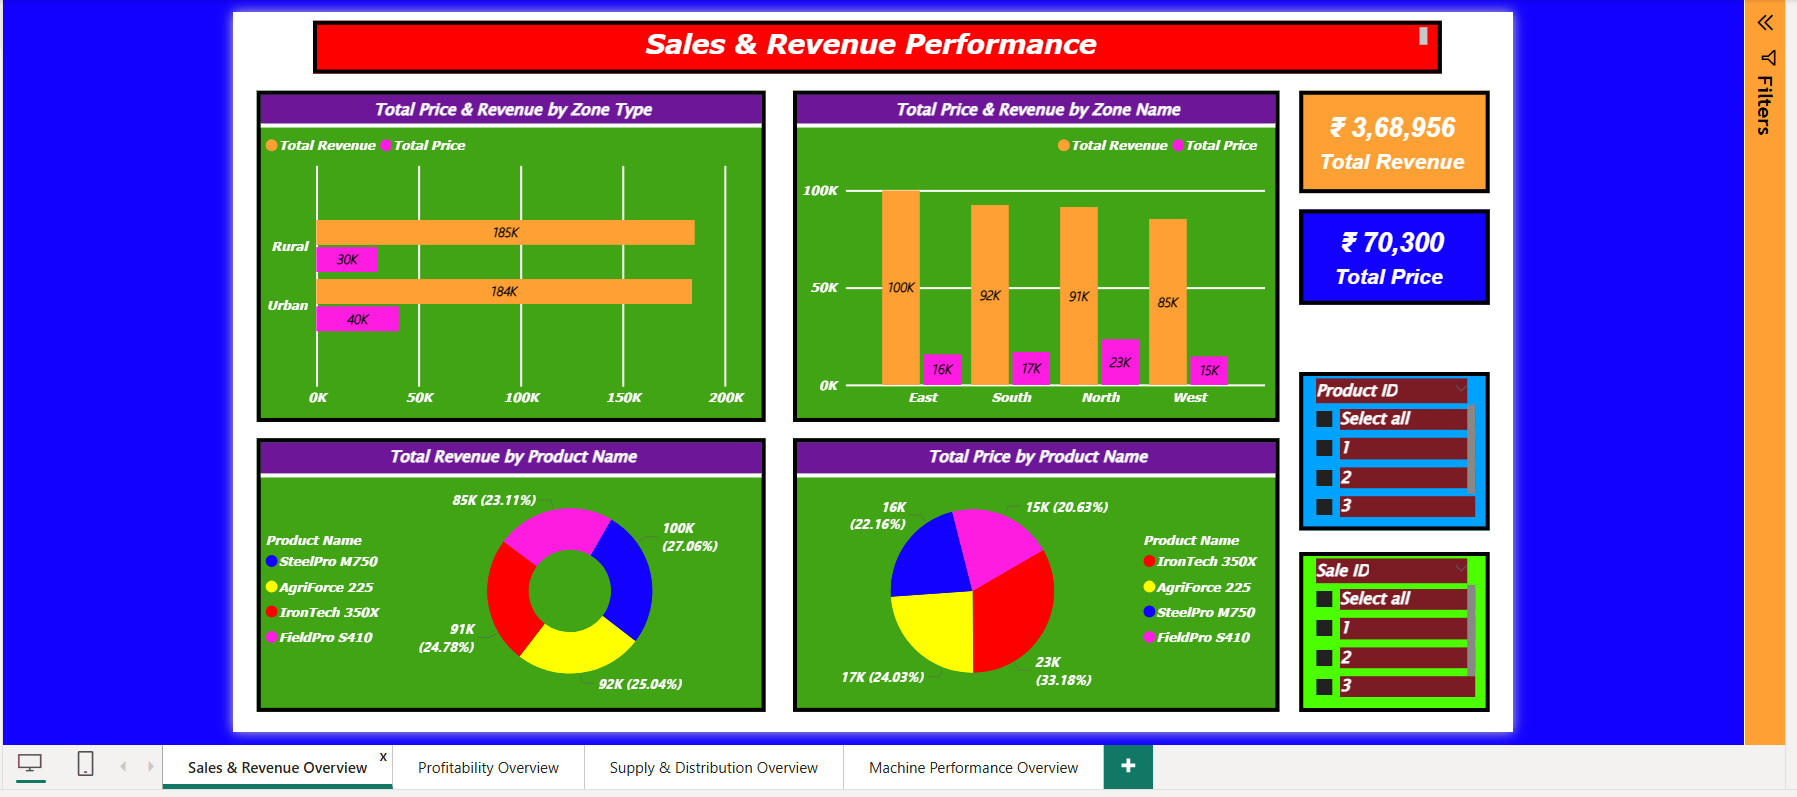

This screenshot's page, from the dashboard's own definition file:
{"tool":"powerbi","page":{"name":"Sales & Revenue Overview","canvas":[1280,720],"ordinal":0},"visuals":[{"type":"pieChart","title":"Total Price by Product Name","fields":{"Category":["Inventory_Details.Product Name"],"Y":["Sum(Inventory_Details.Product Price )"]},"box":[560,426.2,486.2,273.8],"z":0},{"type":"clusteredColumnChart","title":"Total Price & Revenue by Zone Name","fields":{"Category":["Zone_Overview.Zone Name"],"Y":["Sum(Sales_Records.Product Revenue)","Sum(Inventory_Details.Product Price )"]},"box":[560,78.8,486.2,331.2],"z":1000},{"type":"card","fields":{"Values":["Sum(Inventory_Details.Product Price )"]},"box":[1066.2,197.5,190,95],"z":2000},{"type":"card","fields":{"Values":["Sum(Sales_Records.Product Revenue)"]},"box":[1066.2,78.8,190,102.5],"z":3000},{"type":"textbox","box":[80,8.8,1128.8,52.5],"z":6000},{"type":"slicer","fields":{"Values":["Inventory_Details.Product ID"]},"box":[1066.2,360,190,158.8],"z":7000},{"type":"slicer","fields":{"Values":["Sales_Records.Sale ID"]},"box":[1066.2,540,190,160],"z":8000},{"type":"donutChart","title":"Total Revenue by Product Name","fields":{"Category":["Inventory_Details.Product Name"],"Y":["Sum(Sales_Records.Product Revenue)"]},"box":[23.8,426.2,508.8,273.8],"z":9000},{"type":"clusteredBarChart","title":"Total Price & Revenue by Zone Type","fields":{"Category":["Zone_Overview.Zone Type"],"Y":["Sum(Sales_Records.Product Revenue)","Sum(Inventory_Details.Product Price )"]},"box":[23.8,78.8,508.8,331.2],"z":10000}]}

Visuals, with their boxes on the page's 1280x720 design canvas (x1, y1, x2, y2). These are canvas units, not pixel positions in the 1797x797 screenshot, which may show the page scaled, cropped or inside an application window:
"Total Price by Product Name" pieChart: box(560, 426, 1046, 700)
"Total Price & Revenue by Zone Name" clusteredColumnChart: box(560, 79, 1046, 410)
card - Sum(Inventory_Details.Product Price ): box(1066, 198, 1256, 292)
card - Sum(Sales_Records.Product Revenue): box(1066, 79, 1256, 181)
textbox: box(80, 9, 1209, 61)
slicer - Inventory_Details.Product ID: box(1066, 360, 1256, 519)
slicer - Sales_Records.Sale ID: box(1066, 540, 1256, 700)
"Total Revenue by Product Name" donutChart: box(24, 426, 533, 700)
"Total Price & Revenue by Zone Type" clusteredBarChart: box(24, 79, 533, 410)
